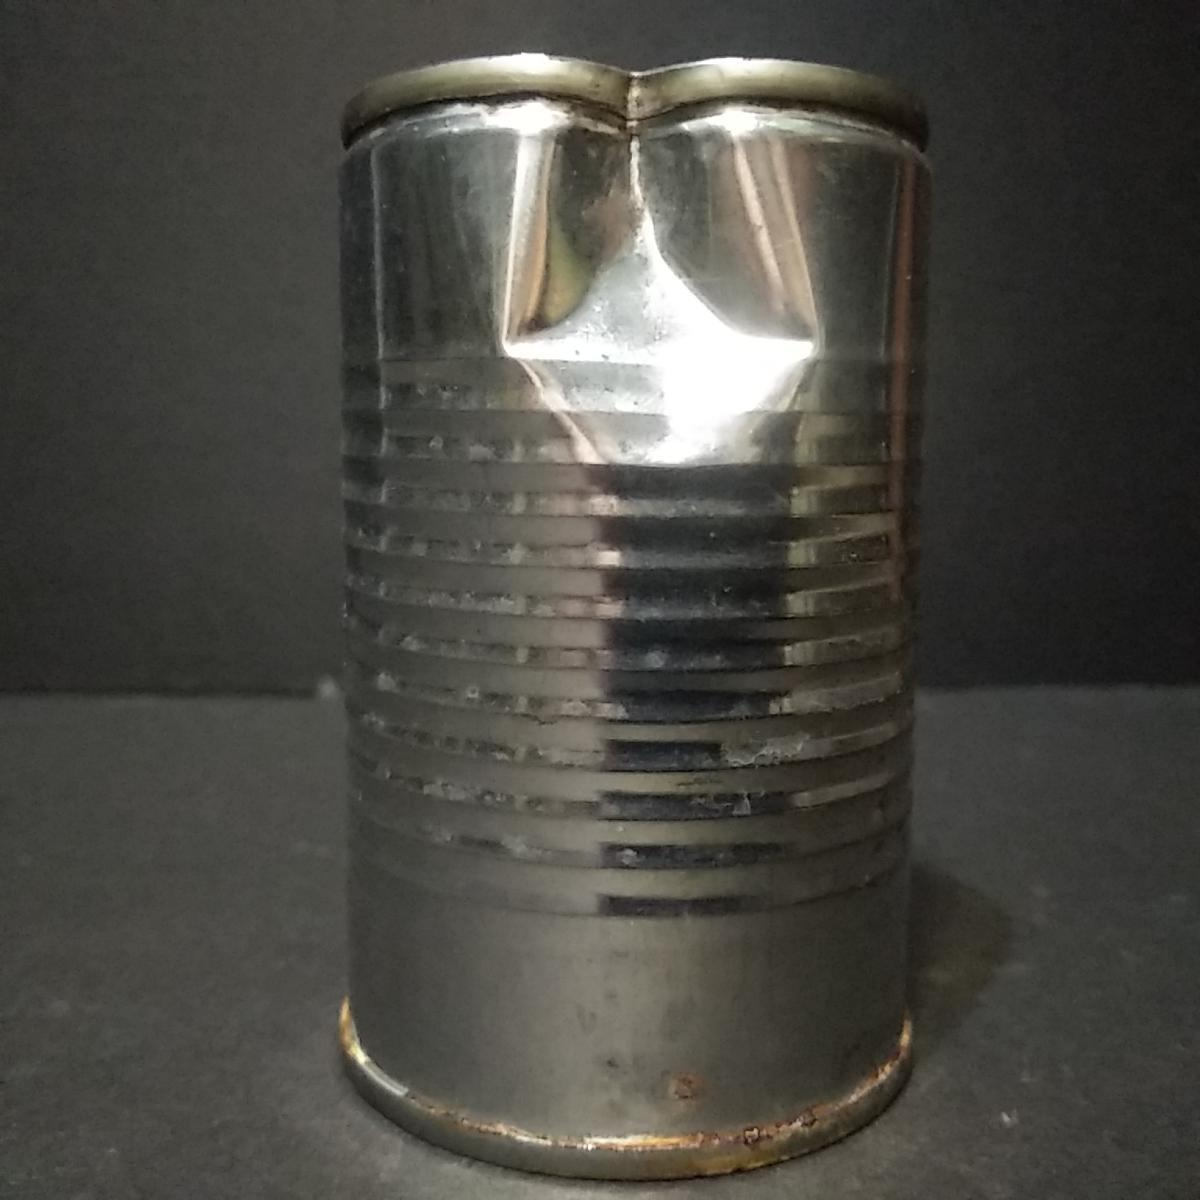Dented: (320, 36, 946, 1198)
